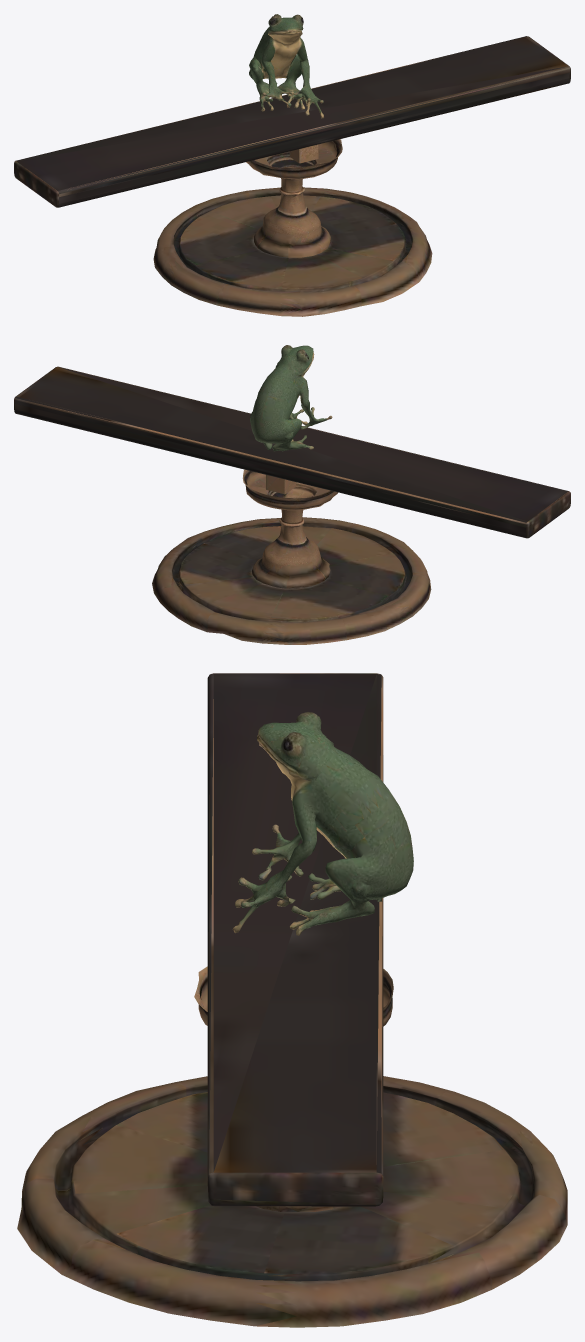
File: catapult.glb
3 renders of one model, top to bottom at view 1: azimuth 30°, elevation 25°; view 2: azimuth 150°, elevation 25°; view 3: azimuth 270°, elevation 25°, orthographic. The views are drawn at different scales.
Parts seen in each view (by area): view 1: midway-fit; view 2: midway-fit; view 3: midway-fit.
Part boxes in pixels (x1=…): midway-fit: x1=14, y1=14, x2=570, y2=316; midway-fit: x1=14, y1=345, x2=570, y2=644; midway-fit: x1=17, y1=673, x2=567, y2=1327.
Bounding box in the file's own units: 1 × 0.4481 × 0.4624.
Materials: 1 (1 with a texture image).
